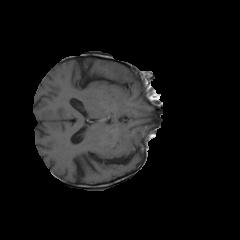glioma: (94, 61, 134, 108)
